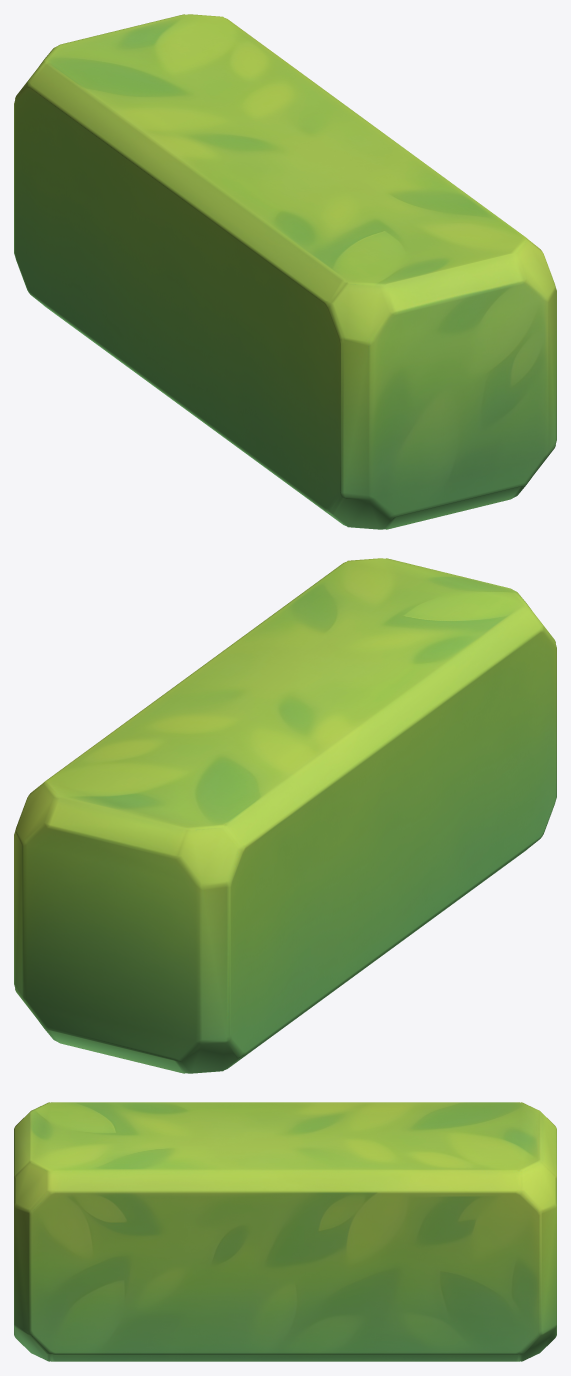
File: tripo_raw.glb
3 views of the same model, one above another, from view 1: azimuth 30°, elevation 25°; view 2: azimuth 150°, elevation 25°; view 3: azimuth 270°, elevation 25° (orthographic). The views are drawn at different scales.
Visible parts, largest first — view 1: tripo_node_da1b2b03-0054-4c07-8e20-52a12e6d63fa; view 2: tripo_node_da1b2b03-0054-4c07-8e20-52a12e6d63fa; view 3: tripo_node_da1b2b03-0054-4c07-8e20-52a12e6d63fa.
Part boxes in pixels (x1,y1,x2,y2): tripo_node_da1b2b03-0054-4c07-8e20-52a12e6d63fa: [14, 14, 556, 529]; tripo_node_da1b2b03-0054-4c07-8e20-52a12e6d63fa: [14, 558, 556, 1073]; tripo_node_da1b2b03-0054-4c07-8e20-52a12e6d63fa: [14, 1102, 556, 1361].
Bounding box in the file's own units: 0.3581 × 0.3894 × 1.
Materials: 1 (1 with a texture image).
